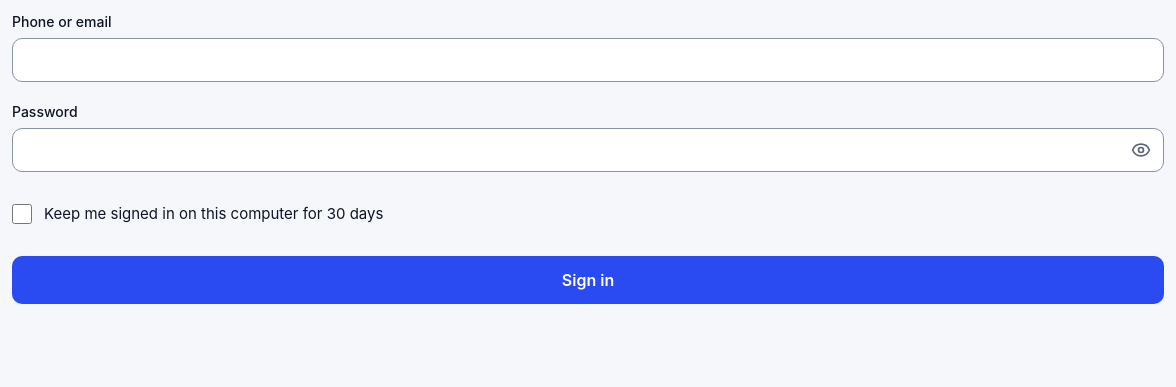
Scenario: StaffLoginForm › posts the identifier and names email in the generic error
Click the button "Sign in".
click(588, 280)  # box left=12, top=256, right=1164, bottom=304
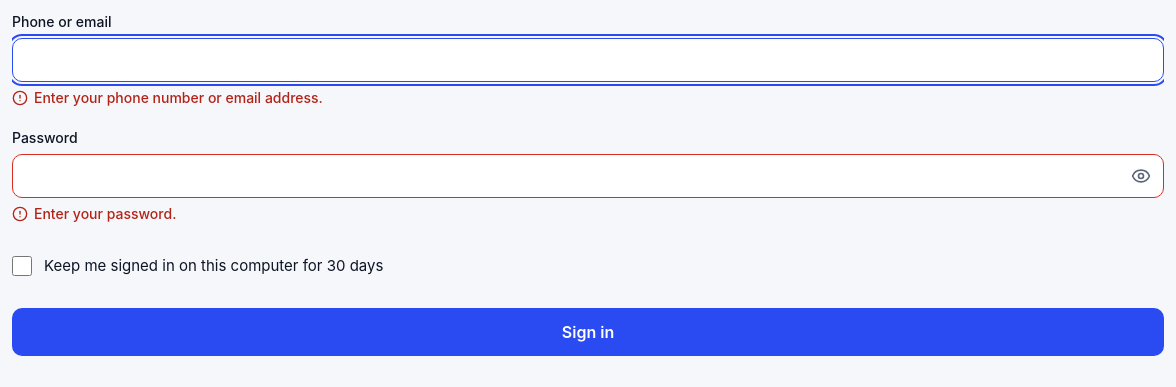
Check: the text "Enter your phone number or email address." is shown, box left=34, top=88, right=323, bottom=108
Type "kamal@example.com" into the field labelled "Phone or email".
click(588, 60); type("kamal@example.com")  # box left=12, top=38, right=1164, bottom=82
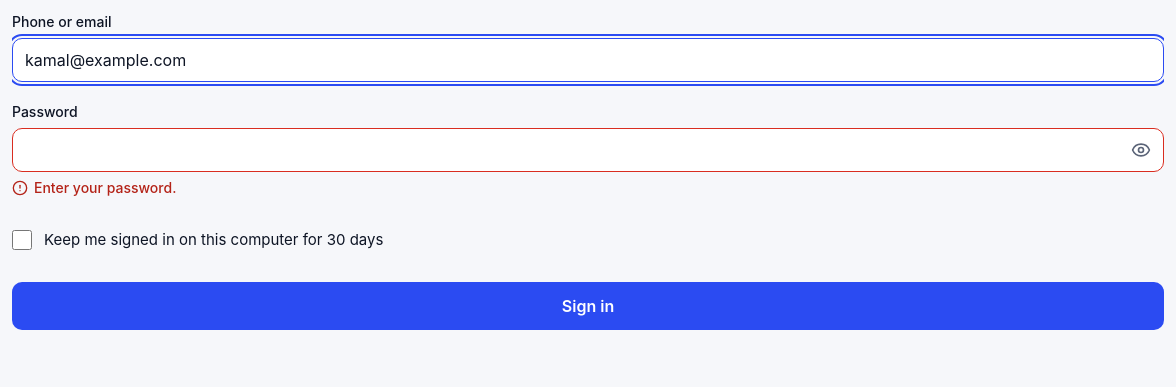
Type "secret-pass" into the password field labelled "Password".
click(566, 150); type("secret-pass")  # box left=13, top=129, right=1119, bottom=171
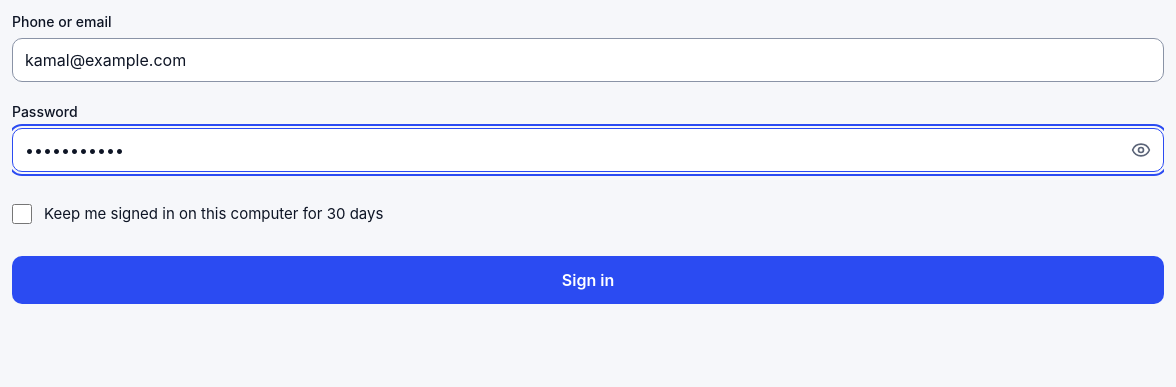
Click the button "Sign in".
click(588, 280)  # box left=12, top=256, right=1164, bottom=304
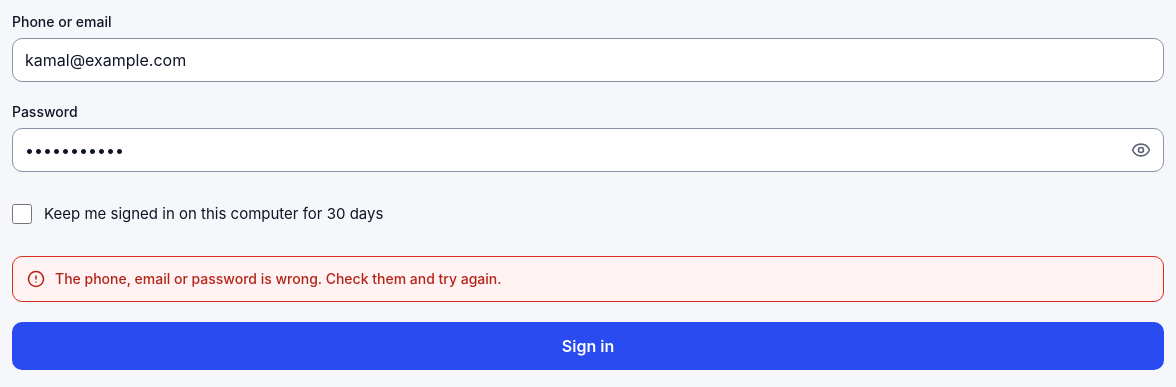
Check: the message shows "The phone, email or password is wrong.", box left=55, top=270, right=502, bottom=287
